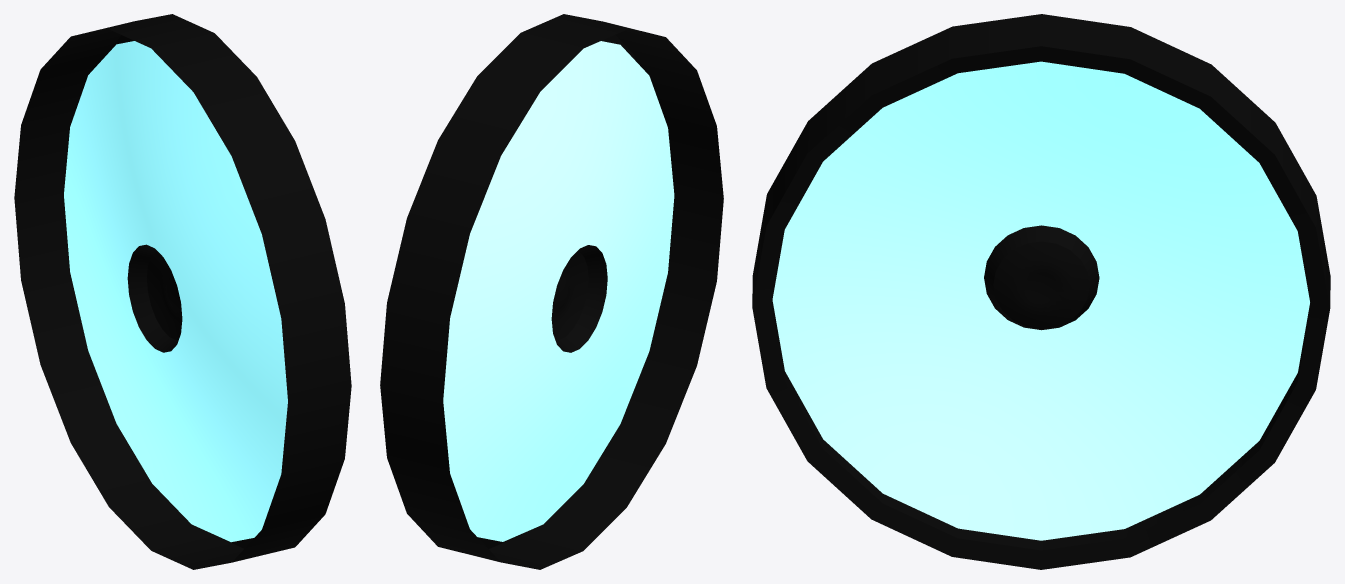
File: SpeakerMasks_Mesh.fbx
3 renders of one model, left to right at view 1: azimuth 30°, elevation 25°; view 2: azimuth 150°, elevation 25°; view 3: azimuth 270°, elevation 25°, orthographic. The views are drawn at different scales.
Visible parts, largest first — view 1: SpeakerMasks; view 2: SpeakerMasks; view 3: SpeakerMasks.
Part boxes in pixels (bbox=[...]): SpeakerMasks: bbox=[14, 14, 351, 569]; SpeakerMasks: bbox=[380, 14, 723, 569]; SpeakerMasks: bbox=[752, 14, 1330, 569].
Size of the model in its own units: 0.00725 by 0.0521 by 0.0522.
